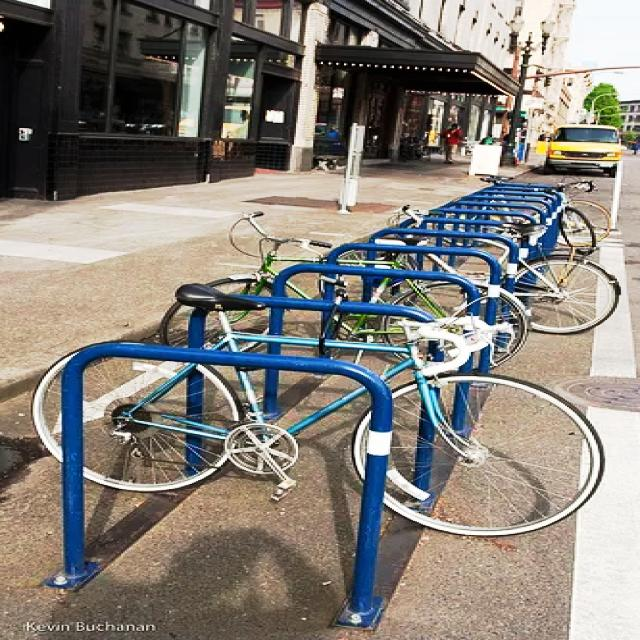bike: (28, 282, 607, 540), (158, 208, 528, 375), (320, 206, 624, 336)
